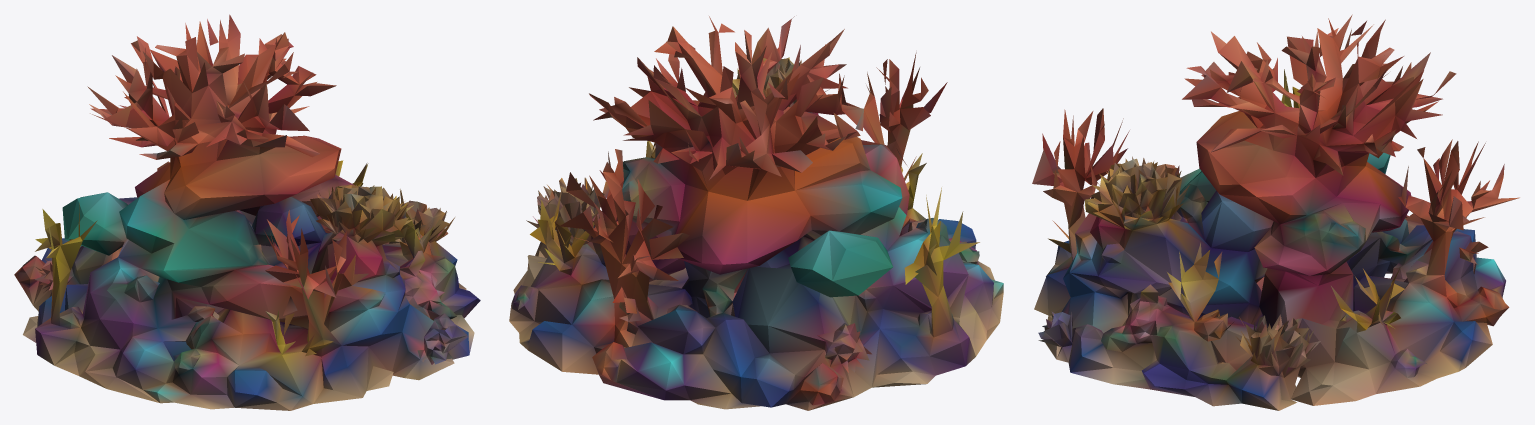
File: chroma.glb
3 views of the same model, side by side, from view 1: azimuth 30°, elevation 25°; view 2: azimuth 150°, elevation 25°; view 3: azimuth 270°, elevation 25° (orthographic). The views are drawn at different scales.
Visible parts, largest first — view 1: chroma; view 2: chroma; view 3: chroma.
Boxes of the visible parts, left/top/right/bottom form: chroma: left=14, top=14, right=480, bottom=410; chroma: left=509, top=16, right=1003, bottom=410; chroma: left=1032, top=14, right=1519, bottom=410.
Bounding box in the file's own units: 1.9 × 1.15 × 1.92.
